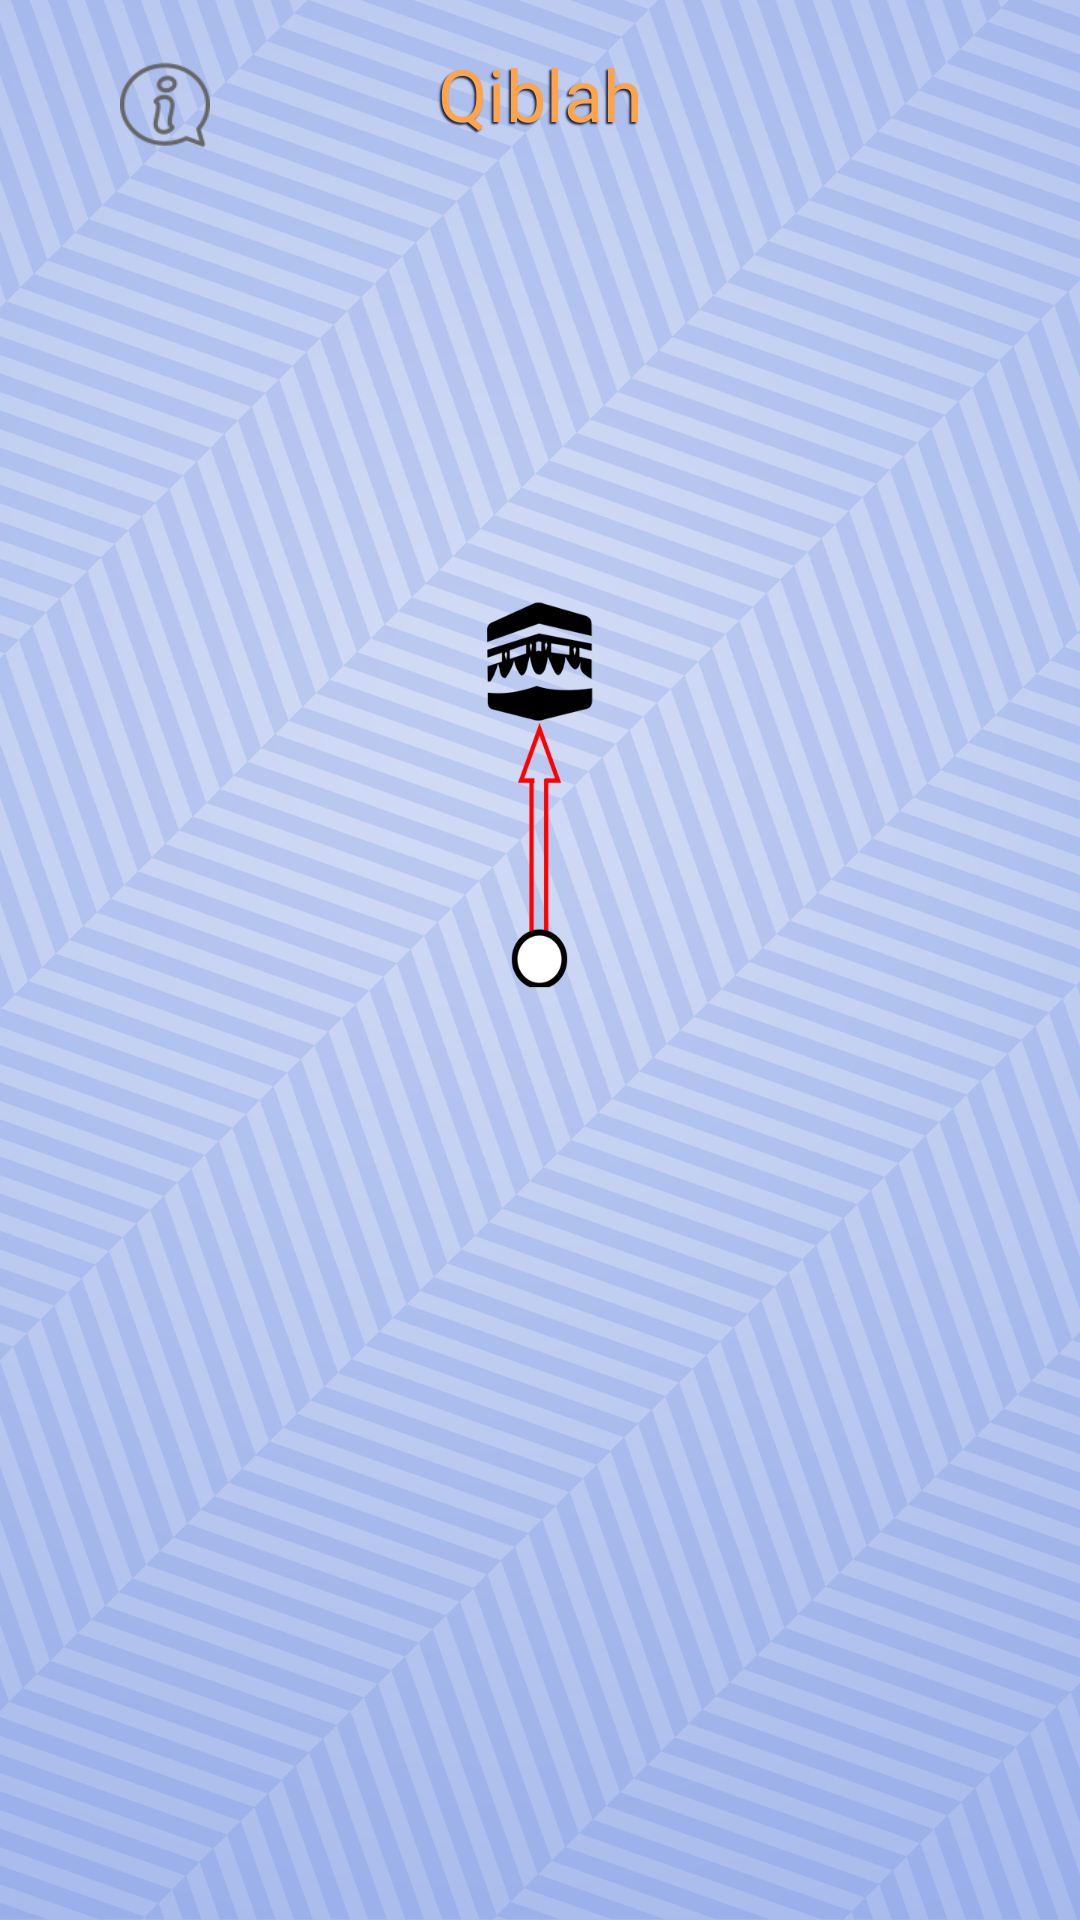

Screen size 1080 × 1920. Icon name, then its center in pixels as (x,y):
information: (165,104)
